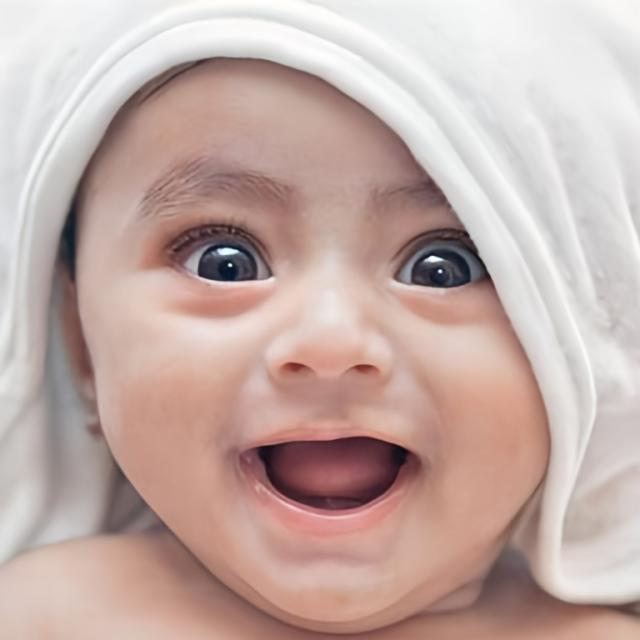surprise: (73, 46, 552, 622)
